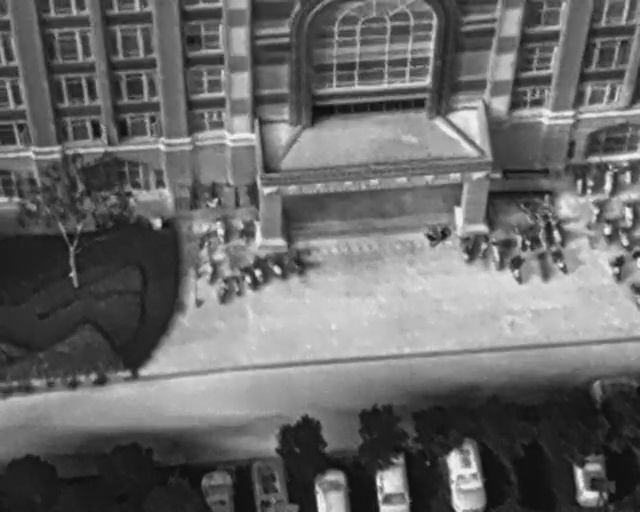Bicycle: (421, 219, 454, 250), (260, 252, 290, 282), (546, 242, 571, 278), (545, 212, 569, 249), (506, 249, 527, 286), (472, 232, 494, 263), (238, 260, 259, 292), (606, 252, 627, 284), (247, 255, 268, 286), (214, 274, 232, 308), (616, 224, 635, 252), (212, 213, 228, 244), (605, 161, 619, 195), (536, 215, 549, 250), (284, 248, 302, 273), (490, 238, 502, 274), (460, 234, 475, 262), (203, 253, 215, 286), (229, 270, 241, 298), (624, 200, 635, 230), (586, 164, 597, 194), (516, 231, 531, 252), (601, 218, 613, 244), (621, 158, 632, 185), (574, 169, 585, 195)
Car: (445, 436, 486, 511), (249, 455, 300, 512), (571, 446, 612, 510), (372, 448, 412, 512), (312, 468, 353, 512), (198, 473, 237, 512)
